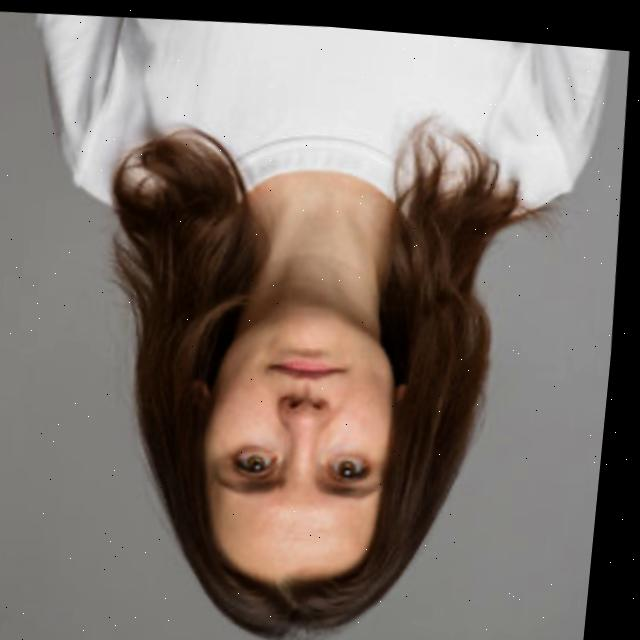natural: (181, 274, 438, 622)
